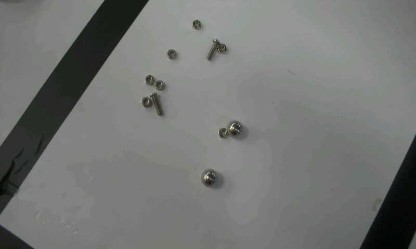ironball: (200, 168, 216, 186), (226, 120, 241, 135)
